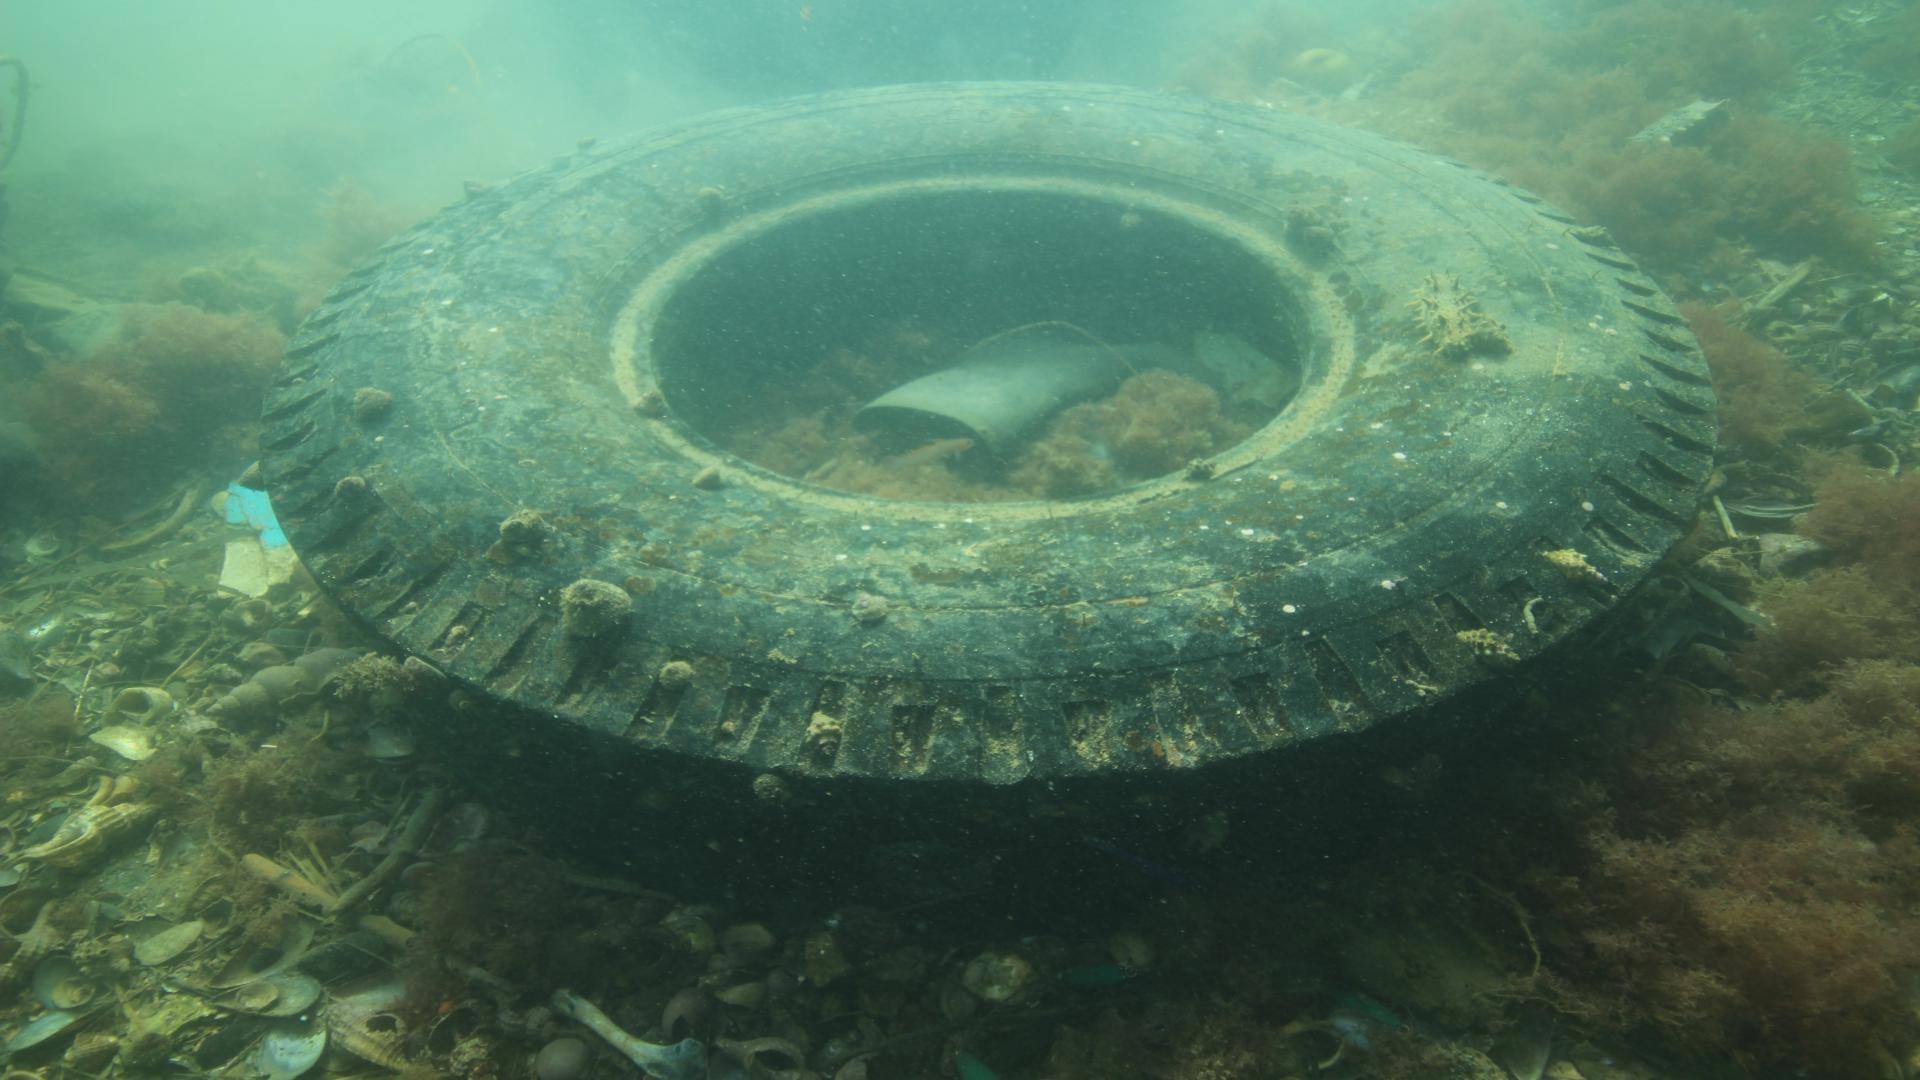tire: (256, 78, 1716, 947)
